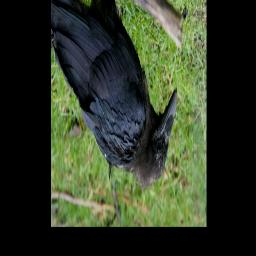Crow: (52, 0, 179, 189)
